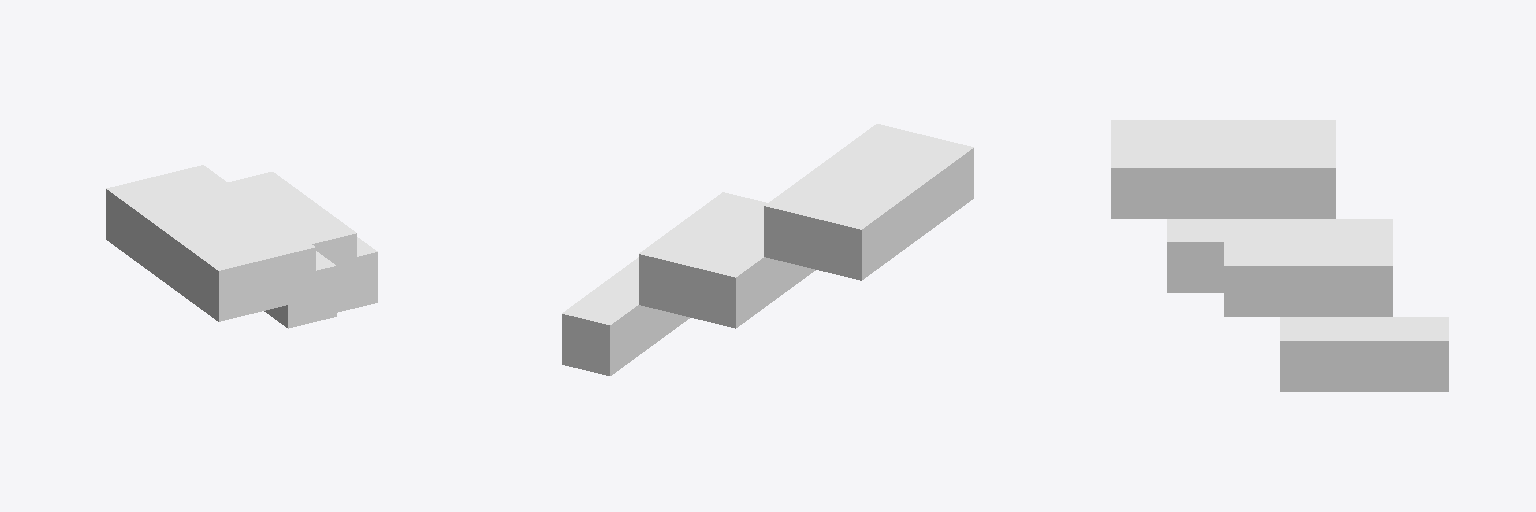
The model's file is Extra-8-MeteorSlicer_Fin_L.obj.
3 views of the same model, side by side, from view 1: azimuth 30°, elevation 25°; view 2: azimuth 150°, elevation 25°; view 3: azimuth 270°, elevation 25° (orthographic).
Visible parts, largest first — view 1: MeteorSlicer_Fin_L; view 2: MeteorSlicer_Fin_L; view 3: MeteorSlicer_Fin_L.
Part boxes in pixels (left/top/right/bottom): MeteorSlicer_Fin_L: left=106, top=165, right=377, bottom=328; MeteorSlicer_Fin_L: left=562, top=124, right=973, bottom=375; MeteorSlicer_Fin_L: left=1111, top=120, right=1448, bottom=391.
Size of the model in its own units: 0.5 by 0.3 by 0.6.